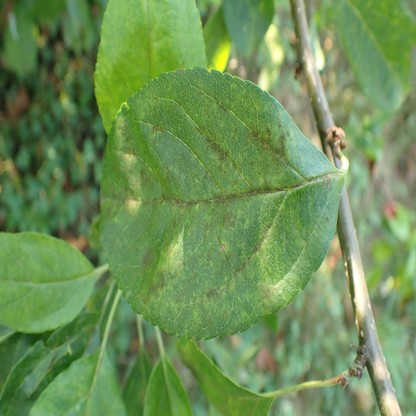scab: (100, 68, 332, 330)
